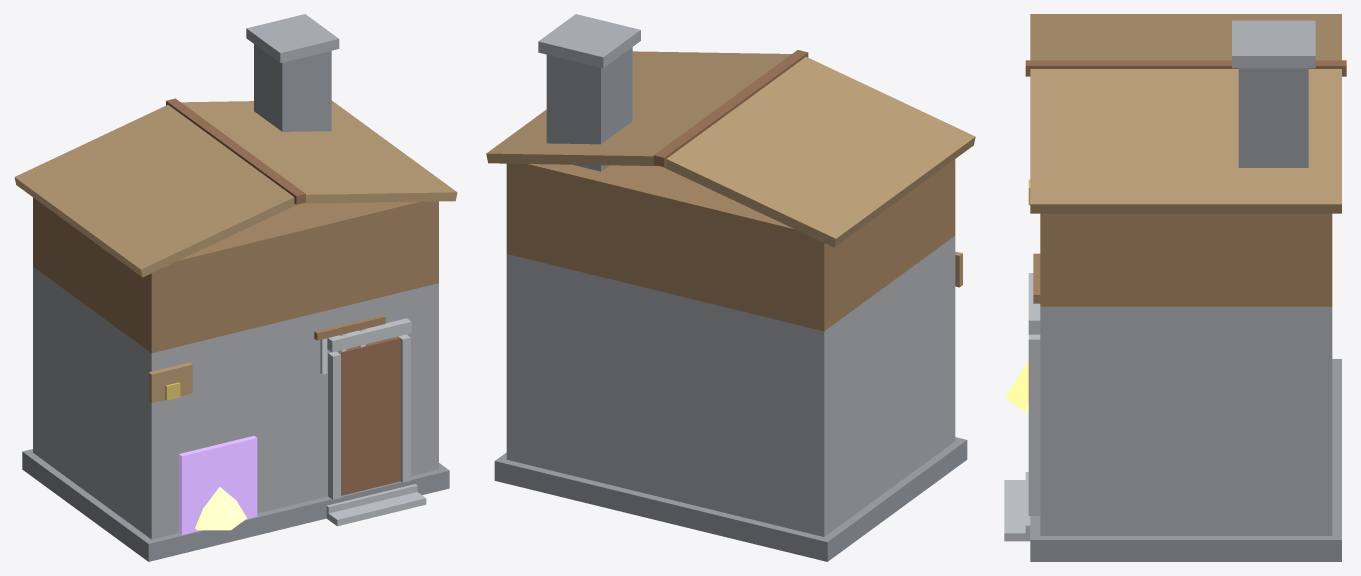
Rendered from blacksmith_shop.glb.
3 views of the same model, side by side, from view 1: azimuth 30°, elevation 25°; view 2: azimuth 150°, elevation 25°; view 3: azimuth 270°, elevation 25° (orthographic). The views are drawn at different scales.
Parts seen in each view (by area): view 1: walls, upper_walls, roof_l.001, roof_r.001, door_leaf.003, foundation, chimney, forge_mouth, chimney_cap, door_jamb.006, ridge.002, door_jamb.007 (+6 smaller); view 2: walls, upper_walls, roof_l.001, roof_r.001, foundation, chimney, chimney_cap, ridge.002; view 3: walls, roof_r.001, upper_walls, roof_l.001, foundation, chimney, chimney_cap, door_jamb.007, ridge.002, step.006, forge_fire, door_lintel.003.
Part boxes in pixels (x1,y1,x2,y2): walls: (33, 267, 438, 539); upper_walls: (33, 197, 438, 353); roof_l.001: (14, 105, 296, 277); roof_r.001: (181, 100, 457, 203); door_leaf.003: (337, 336, 400, 495); foundation: (22, 449, 449, 561); chimney: (254, 44, 331, 131); forge_mouth: (179, 436, 257, 534); chimney_cap: (246, 14, 339, 62); door_jamb.006: (328, 351, 340, 499); ridge.002: (166, 98, 305, 204); door_jamb.007: (398, 334, 410, 482); walls: (506, 236, 955, 536); upper_walls: (506, 159, 955, 331); roof_l.001: (664, 57, 975, 247); roof_r.001: (486, 51, 791, 165); foundation: (494, 437, 967, 561); chimney: (546, 47, 632, 171); chimney_cap: (538, 14, 640, 68); ridge.002: (653, 50, 808, 167); walls: (1040, 306, 1332, 535); roof_r.001: (1030, 69, 1341, 213); upper_walls: (1040, 213, 1332, 306); roof_l.001: (1030, 14, 1341, 60); foundation: (1030, 359, 1341, 561); chimney: (1238, 68, 1308, 167); chimney_cap: (1232, 20, 1315, 68); door_jamb.007: (1028, 334, 1040, 515); ridge.002: (1025, 60, 1346, 76); step.006: (1004, 480, 1027, 541); forge_fire: (1005, 360, 1028, 412); door_lintel.003: (1028, 273, 1040, 334).
Size of the model in its own units: 4.63 by 5.54 by 3.52.
